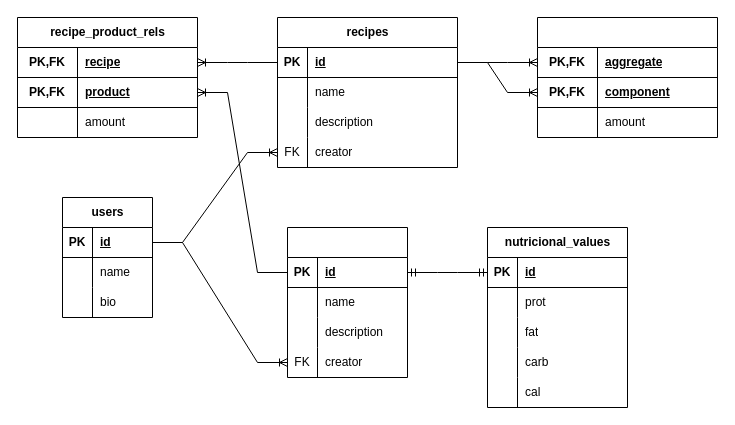
The diagram is 735 pixels wide and 425 high, and some of its shapes have lost their labels. The box of each missing label's shape, as (x1, y1, x2, y2) in pixels:
nested_recipes: (536, 16, 718, 138)
products: (286, 226, 408, 378)
